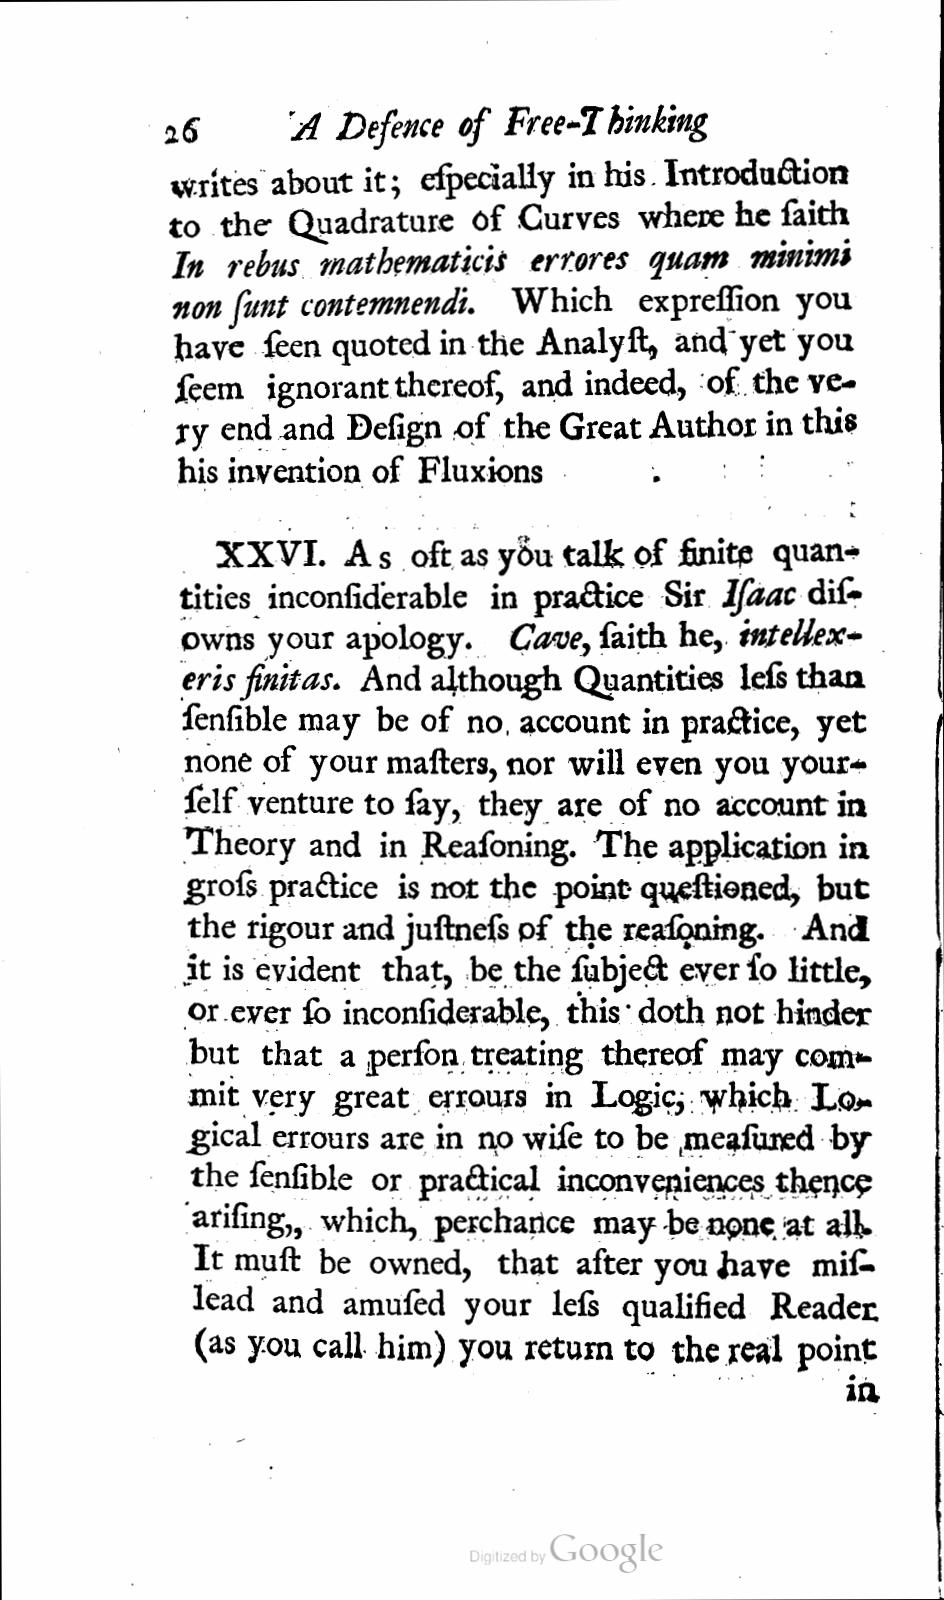bottom_p: (167, 156, 860, 491)
catchword: (843, 1373, 881, 1404)
header: (289, 102, 712, 149)
page_num: (160, 112, 206, 152)
top_p: (175, 534, 884, 1373)
